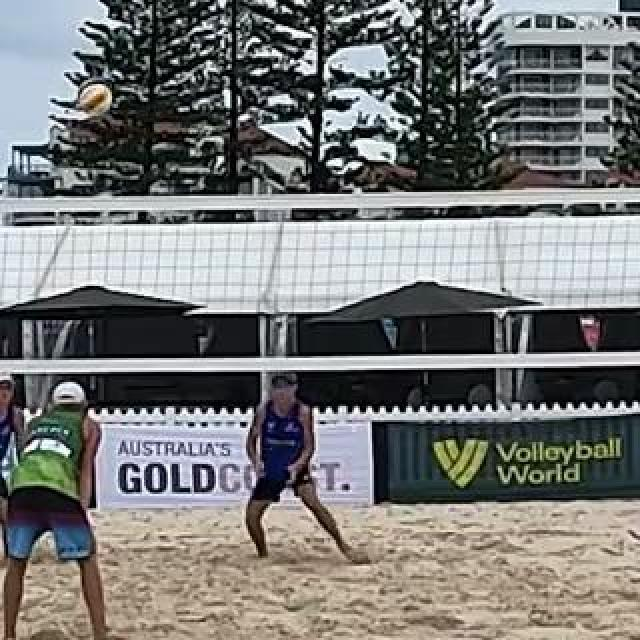volleyball: (81, 82, 111, 114)
